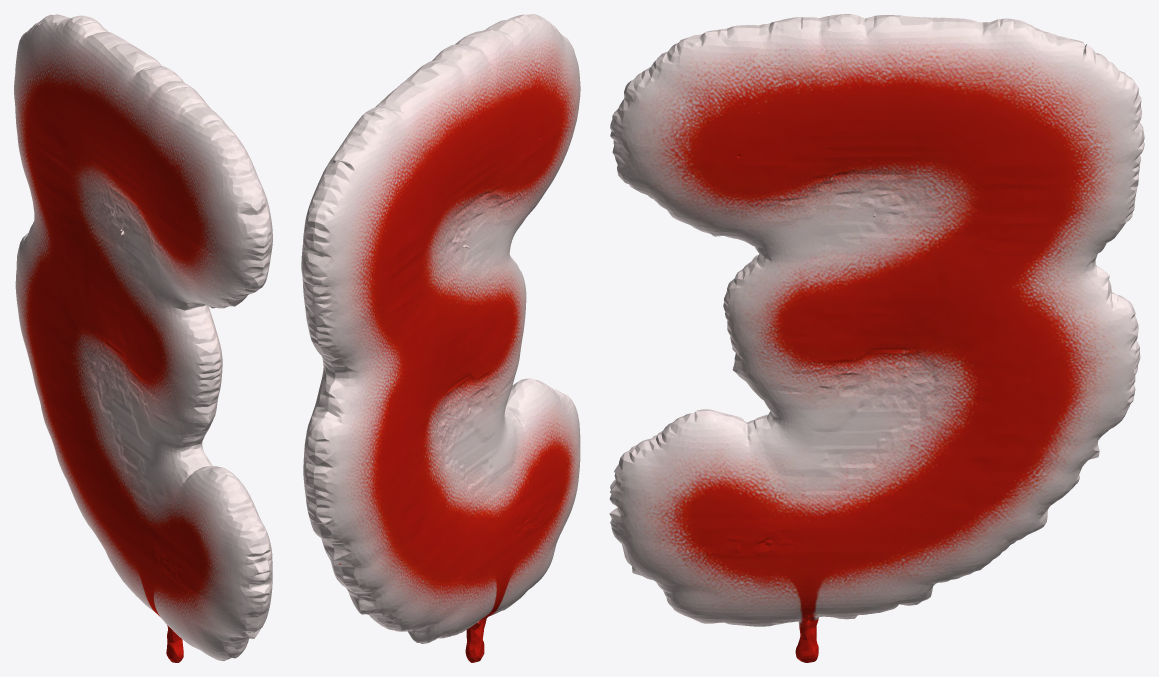
Rendered from tripo_convert_da319905-ee9e-412e-b691-e72c5d4db188.obj.
3 renders of one model, left to right at view 1: azimuth 30°, elevation 25°; view 2: azimuth 150°, elevation 25°; view 3: azimuth 270°, elevation 25°, orthographic. The views are drawn at different scales.
Visible parts, largest first — view 1: tripo_node_da319905-ee9e-412e-b691-e72c5d4db188; view 2: tripo_node_da319905-ee9e-412e-b691-e72c5d4db188; view 3: tripo_node_da319905-ee9e-412e-b691-e72c5d4db188.
Boxes of the visible parts, box(x1,y1,x2,y2) form: tripo_node_da319905-ee9e-412e-b691-e72c5d4db188: box(14, 14, 272, 662); tripo_node_da319905-ee9e-412e-b691-e72c5d4db188: box(301, 14, 580, 662); tripo_node_da319905-ee9e-412e-b691-e72c5d4db188: box(609, 14, 1144, 662).
Bounding box in the file's own units: 0.1078 × 1 × 0.7517.
Materials: 1 (1 with a texture image).
